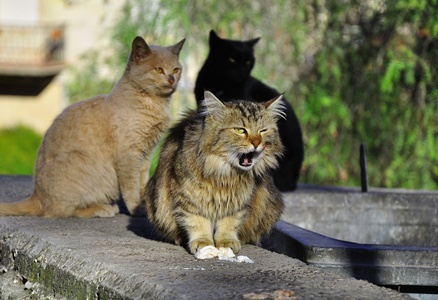cat: (1, 34, 187, 218), (144, 89, 284, 266), (194, 29, 305, 193)
